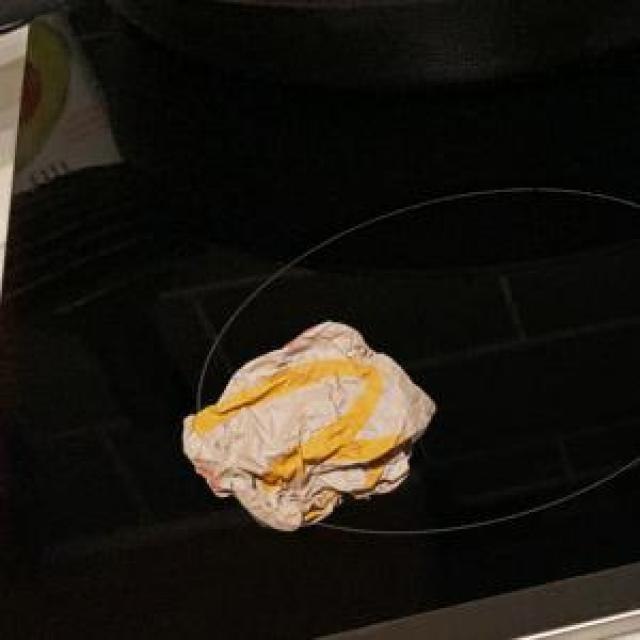paper: (179, 318, 431, 527)
